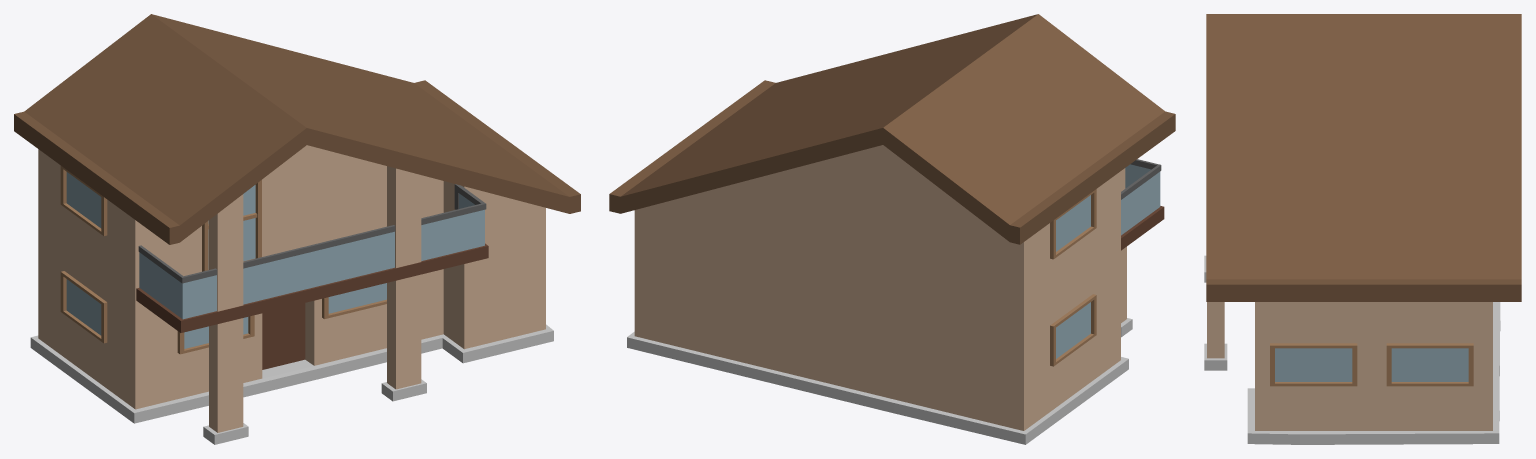
Rendered from house03.glb.
3 renders of one model, left to right at view 1: azimuth 30°, elevation 25°; view 2: azimuth 150°, elevation 25°; view 3: azimuth 270°, elevation 25°, orthographic.
Parts seen in each view (by area): view 1: house2_105; view 2: house2_105; view 3: house2_105.
Part boxes in pixels (left/top/right/bottom): house2_105: left=14, top=14, right=580, bottom=444; house2_105: left=609, top=14, right=1175, bottom=444; house2_105: left=1204, top=14, right=1521, bottom=444.
Bounding box in the file's own units: 6.46 × 4.41 × 4.26.
Materials: 1 (1 with a texture image).
